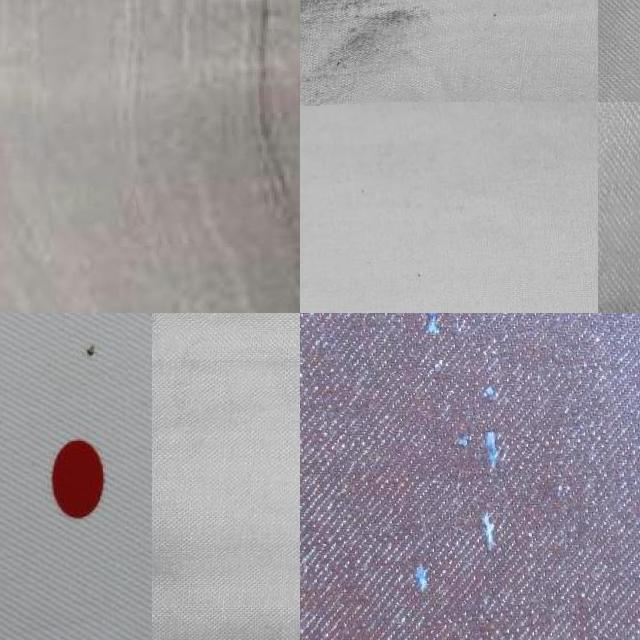Thread_other: (300, 0, 495, 104), (58, 322, 128, 380)
stains: (300, 313, 619, 640), (30, 0, 300, 313)
